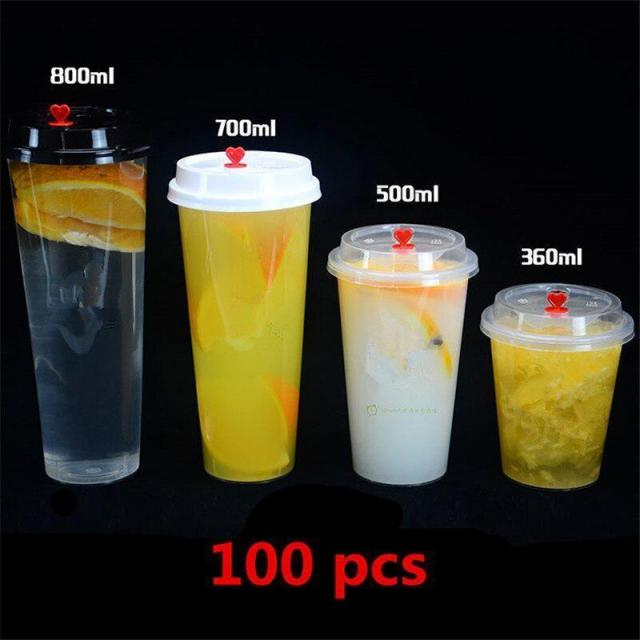cup-disposable: (2, 100, 156, 486), (164, 147, 323, 485), (325, 223, 480, 487), (478, 282, 634, 491)
